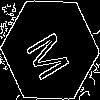M: (25, 25, 78, 83)
